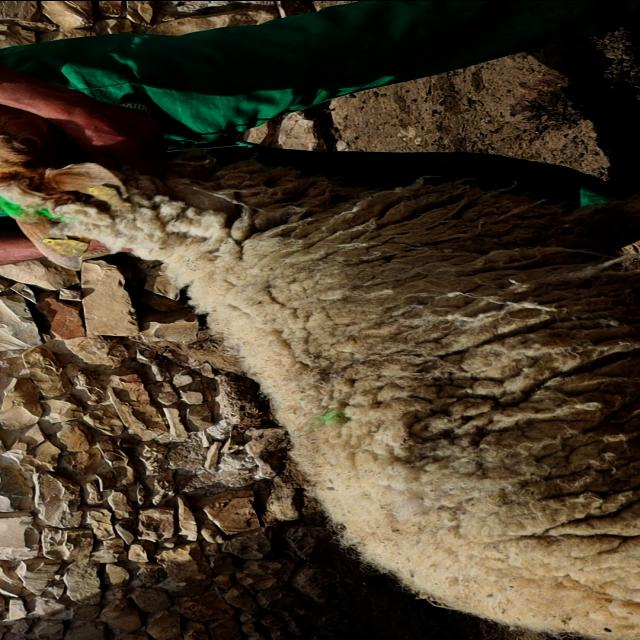Score_2: (0, 105, 639, 640)
